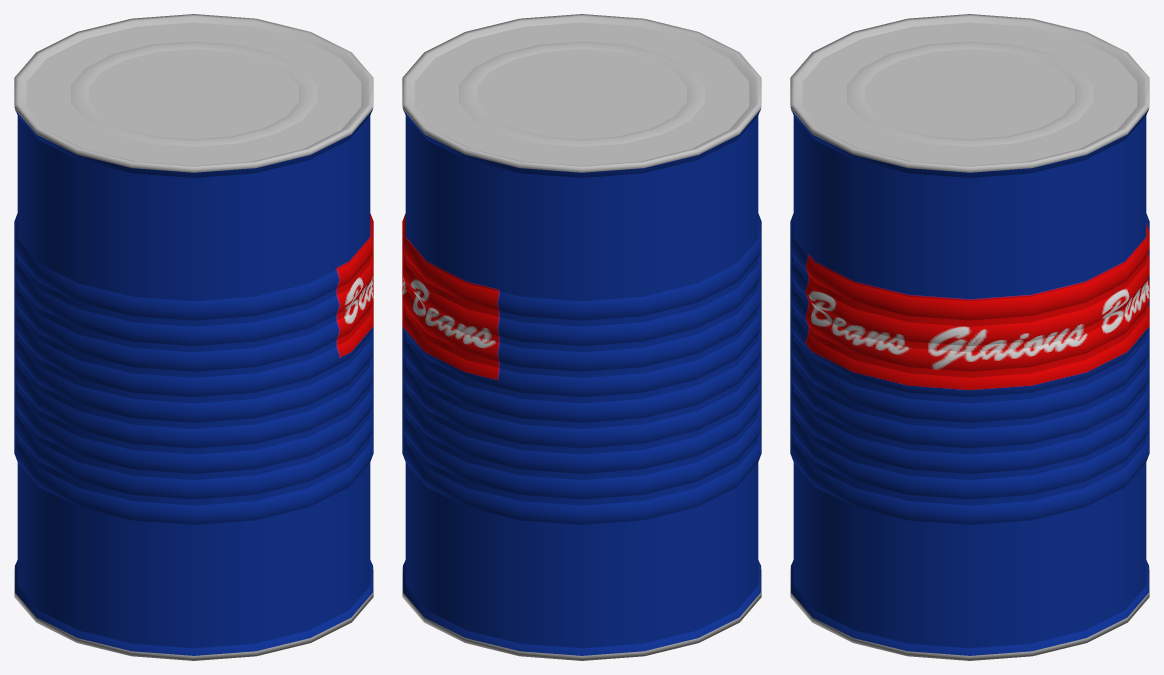
File: TinObject.DAE
The picture shows the model from 3 angles, left to right: view 1: azimuth 30°, elevation 25°; view 2: azimuth 150°, elevation 25°; view 3: azimuth 270°, elevation 25°; orthographic projection.
Parts seen in each view (by area): view 1: Cylinder001; view 2: Cylinder001; view 3: Cylinder001.
Part boxes in pixels (x1=…): Cylinder001: x1=14, y1=14, x2=373, y2=660; Cylinder001: x1=402, y1=14, x2=761, y2=660; Cylinder001: x1=790, y1=14, x2=1149, y2=660.
Bounding box in the file's own units: 8.03 × 7.91 × 11.96.
Materials: 1 (1 with a texture image).
